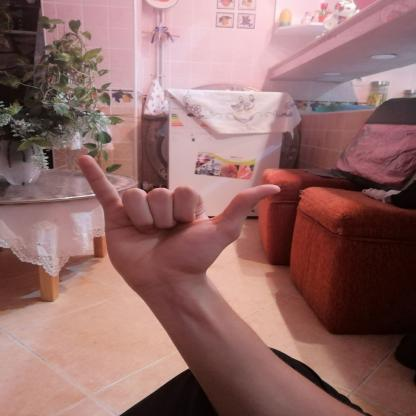YA: (63, 142, 295, 300)
